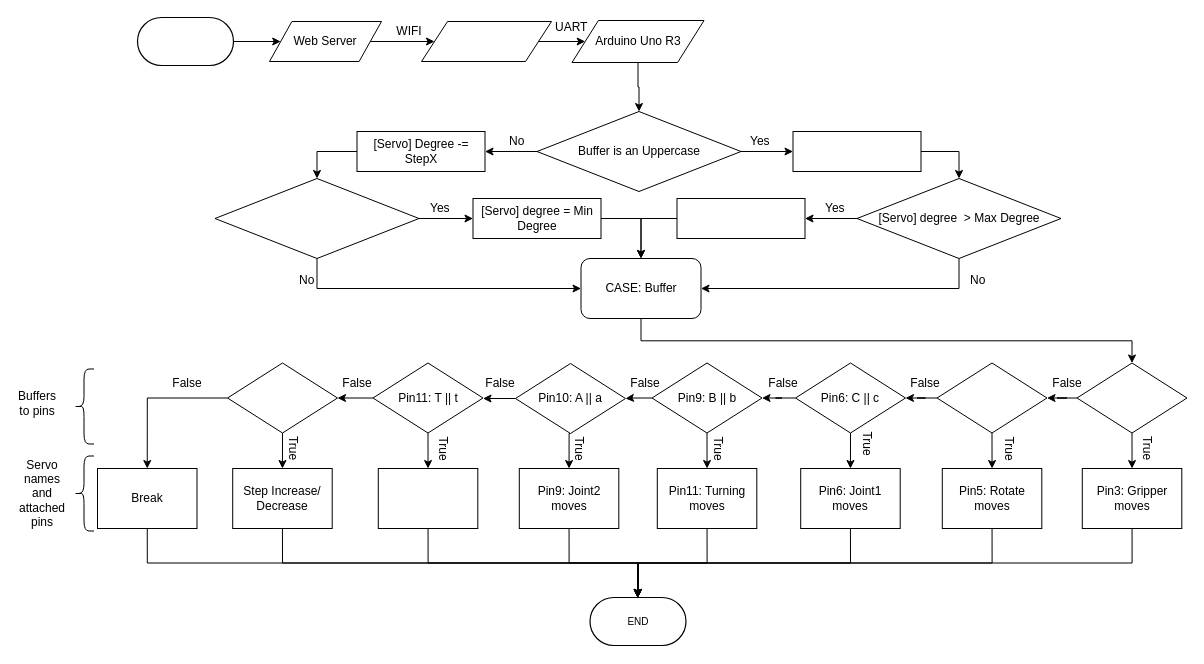
Some shapes in this 1204 by 664 pixel diagram are drawn without their labels. Here are the shapes that lost their labels. From the top down, the box of each, then its label:
(136, 16, 234, 66): START
(420, 20, 552, 62): ESP8266
(792, 130, 921, 172): [Servo] Degree += StepX
(214, 178, 419, 258): [Servo] degree < Min Degree
(676, 198, 805, 238): [Servo] degree = Max Degree
(226, 362, 338, 433): S || s
(936, 362, 1047, 433): Pin5: R || r
(1076, 362, 1187, 433): Pin3: G || g
(377, 468, 478, 528): Pin10: Joint3 moves
